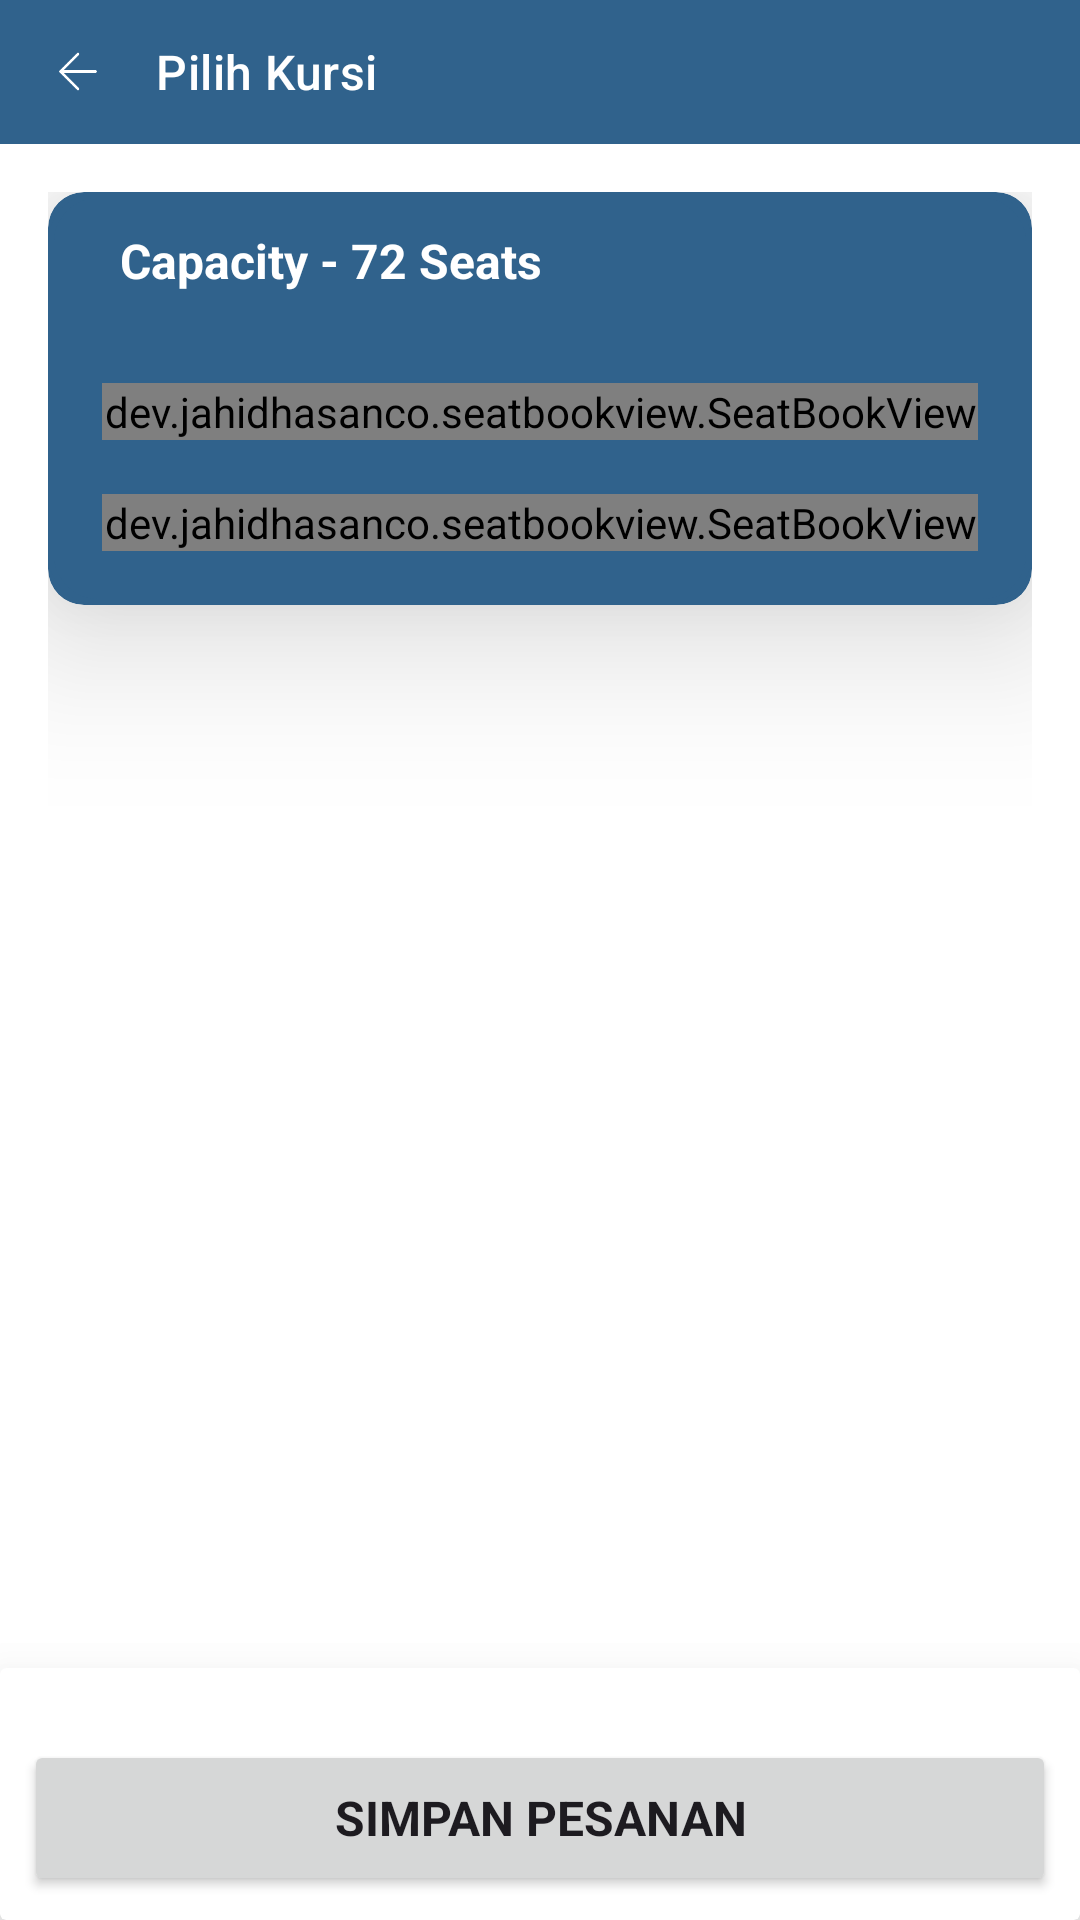

Point at icon controls on the screen. Image size 1080 x 1920, points as (x,y).
back: (78,71)
